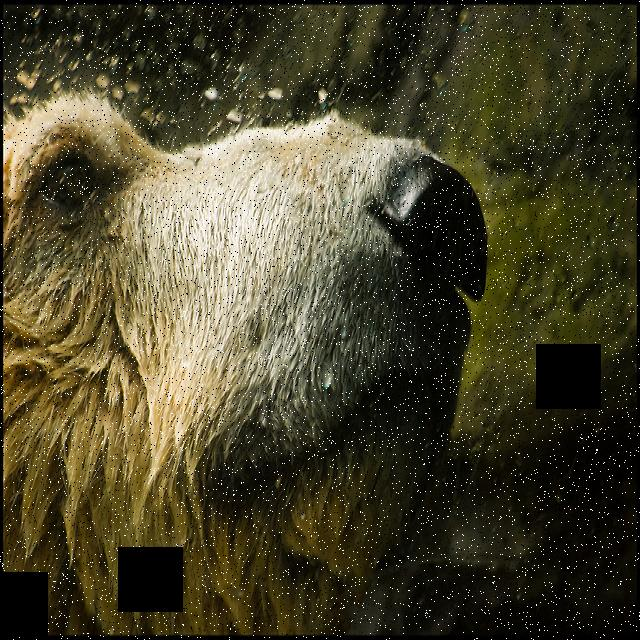Bear: (4, 86, 492, 640)
